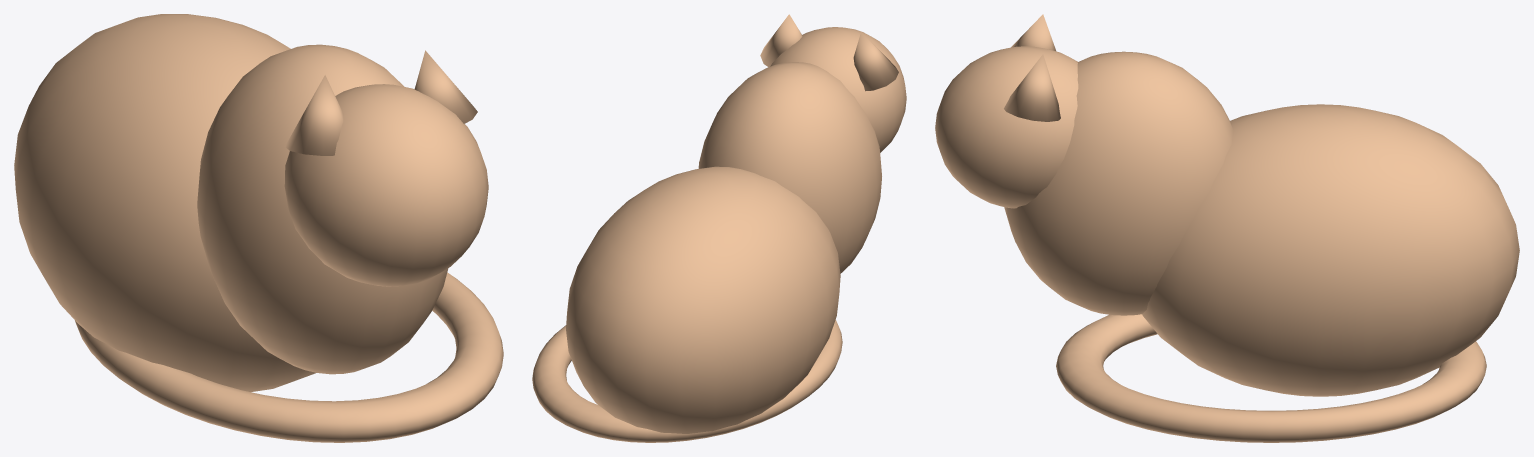
File: prop_cat.glb
The picture shows the model from 3 angles, left to right: view 1: azimuth 30°, elevation 25°; view 2: azimuth 150°, elevation 25°; view 3: azimuth 270°, elevation 25°; orthographic projection. The views are drawn at different scales.
Visible parts, largest first — view 1: Sphere, Sphere.001, Sphere.002, Torus, Cone, Cone.001; view 2: Sphere, Sphere.001, Torus, Sphere.002, Cone, Cone.001; view 3: Sphere, Sphere.001, Torus, Sphere.002, Cone.001, Cone.
Boxes of the visible parts, x1,y1,x2,y2 form: Sphere: [14, 14, 316, 391]; Sphere.001: [197, 44, 448, 374]; Sphere.002: [284, 84, 488, 286]; Torus: [75, 272, 503, 442]; Cone: [285, 75, 343, 155]; Cone.001: [414, 50, 477, 123]; Sphere: [566, 166, 840, 433]; Sphere.001: [698, 62, 881, 273]; Torus: [532, 320, 842, 442]; Sphere.002: [770, 27, 906, 152]; Cone: [853, 32, 898, 91]; Cone.001: [760, 14, 802, 66]; Sphere: [1142, 104, 1519, 396]; Sphere.001: [1004, 51, 1233, 315]; Torus: [1056, 314, 1486, 442]; Sphere.002: [935, 46, 1078, 208]; Cone.001: [1004, 54, 1060, 121]; Cone: [1011, 14, 1055, 50].
Size of the model in its own units: 0.2854 by 0.3144 by 0.4755.
